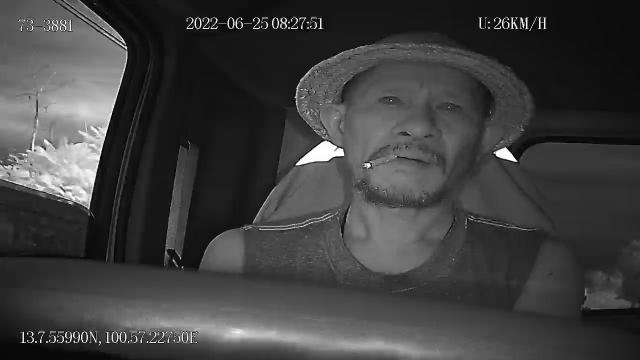SafeDriving: (372, 85, 410, 111), (427, 94, 467, 118)
Smoking: (362, 150, 398, 170)
